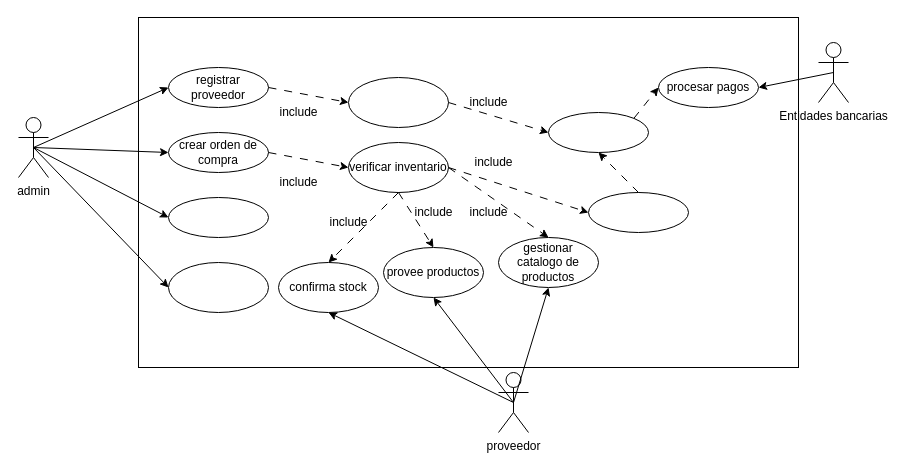
The diagram is 905 pixels wide and 471 high, and some of its shapes have lost their labels. The shapes that lost their labels are listed below. From the top down, each one's centre as x and y in pixels, then its label:
At pixel 398 102: "tomar datos del proveedor".
At pixel 598 132: "realizar pedidos".
At pixel 218 217: "consultar historial".
At pixel 638 212: "elegir producto".
At pixel 218 287: "confirmar recepcion de mercancia".
